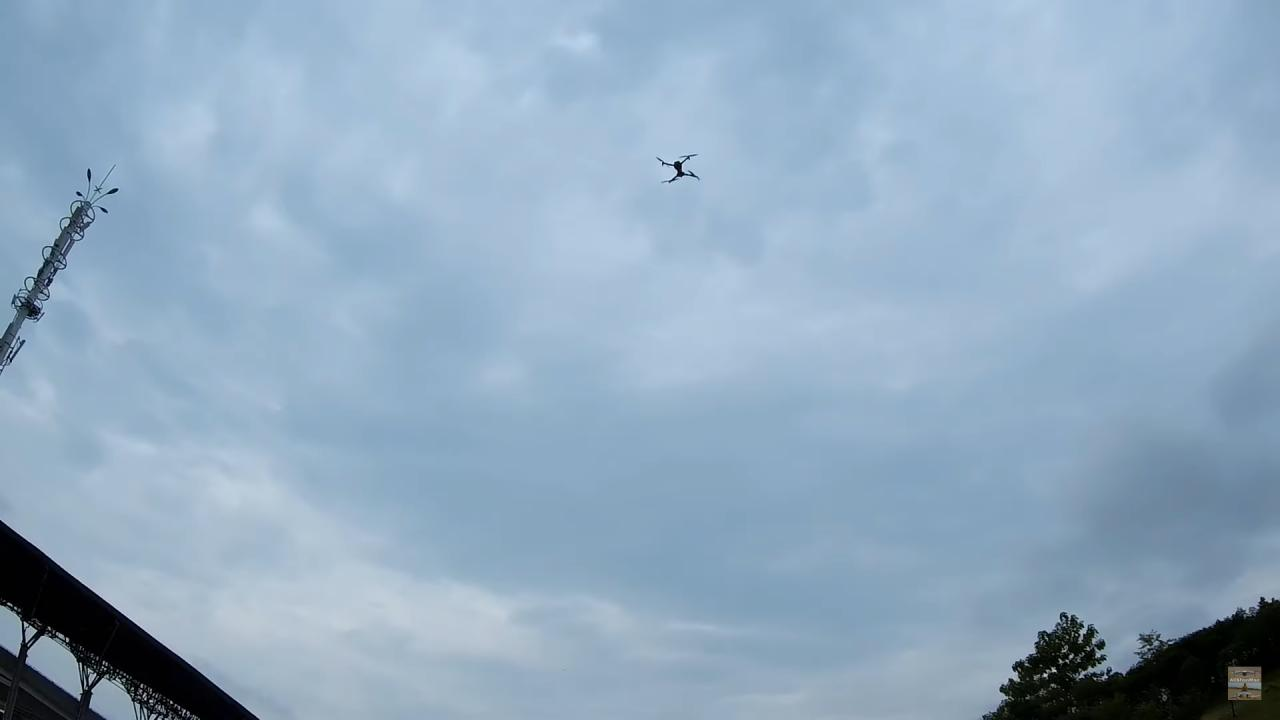Drone: (648, 140, 711, 198)
